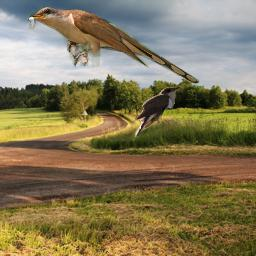Cuckoo: (24, 6, 200, 84), (133, 86, 181, 143)
